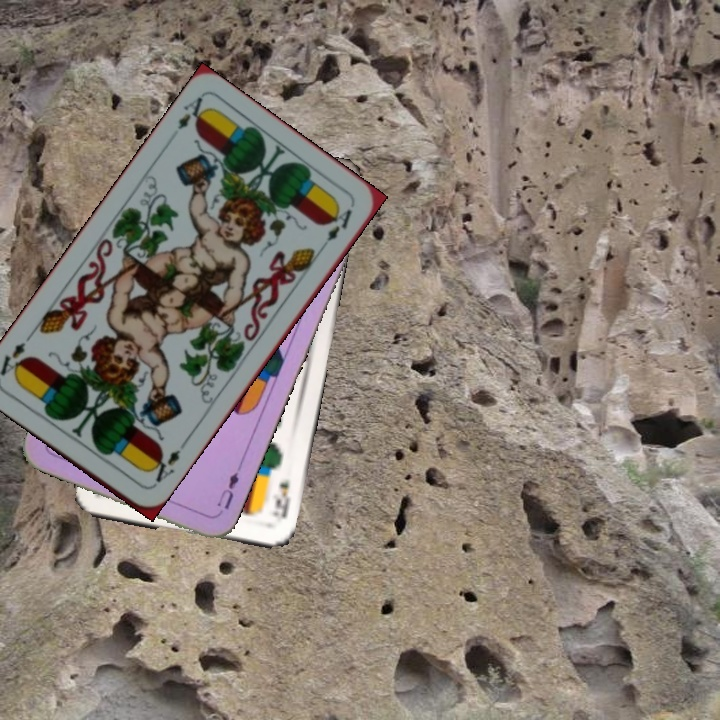EA: (144, 438, 189, 490), (173, 92, 212, 132)
EK: (268, 475, 293, 527)
EU: (213, 462, 244, 512)
